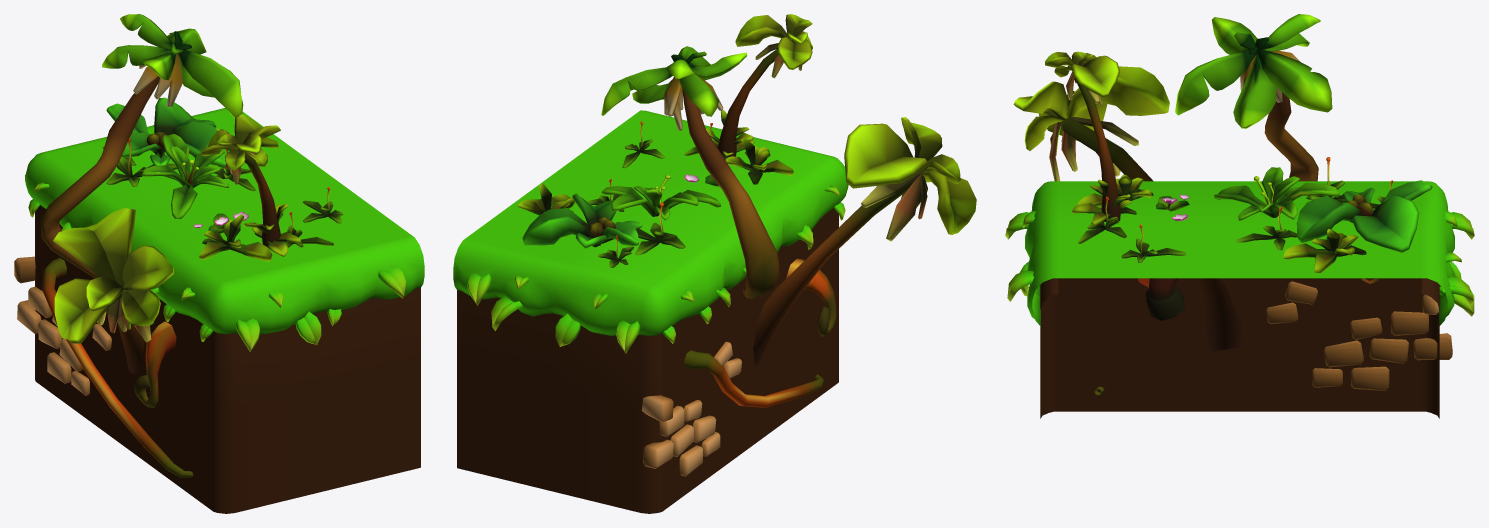
The model's file is Island_05.fbx.
The picture shows the model from 3 angles, left to right: view 1: azimuth 30°, elevation 25°; view 2: azimuth 150°, elevation 25°; view 3: azimuth 270°, elevation 25°; orthographic projection. The views are drawn at different scales.
Visible parts, largest first — view 1: Island_05; view 2: Island_05; view 3: Island_05.
Boxes of the visible parts, x1,y1,x2,y2 form: Island_05: [14, 14, 424, 513]; Island_05: [453, 14, 976, 513]; Island_05: [1005, 14, 1474, 418].
Bounding box in the file's own units: 6760 × 7646 × 7763.
